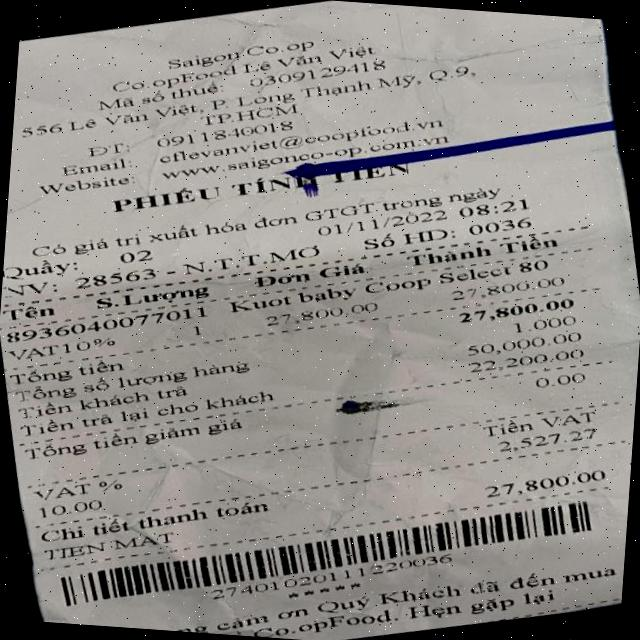Date: (308, 197, 456, 250)
Store_Name: (110, 11, 364, 92)
amount_number: (448, 286, 586, 336)
label_total: (4, 345, 134, 396)
